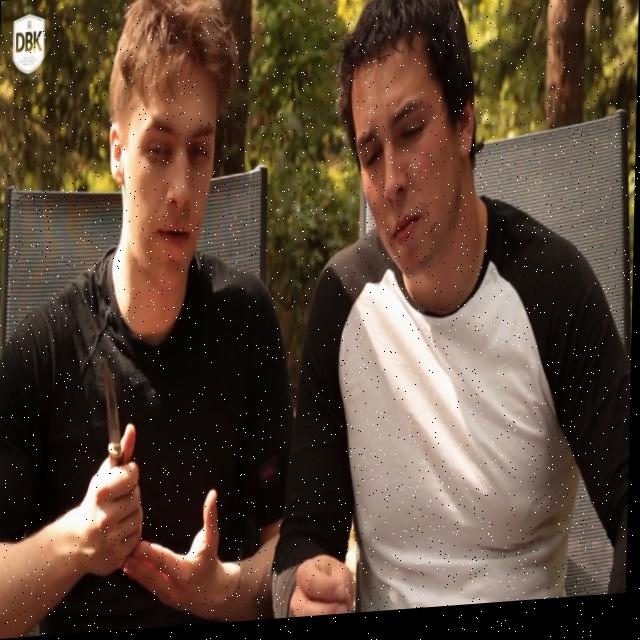knife: (95, 350, 131, 468)
